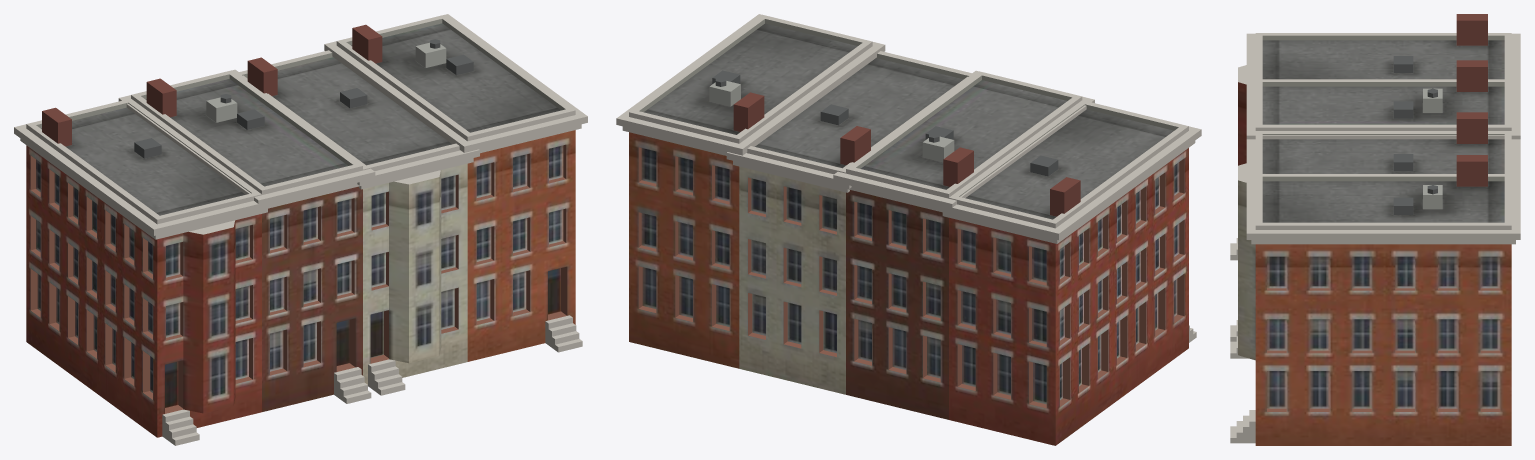
File: dc_brick_row_a.glb
3 views of the same model, side by side, from view 1: azimuth 30°, elevation 25°; view 2: azimuth 150°, elevation 25°; view 3: azimuth 270°, elevation 25° (orthographic). The views are drawn at different scales.
Visible parts, largest first — view 1: dc_brick_row_a; view 2: dc_brick_row_a; view 3: dc_brick_row_a.
Boxes of the visible parts, x1,y1,x2,y2 form: dc_brick_row_a: (14,14,587,445); dc_brick_row_a: (616,14,1201,445); dc_brick_row_a: (1230,14,1520,445).
Bounding box in the file's own units: 24.9 × 13.5 × 14.73.
Materials: 1 (1 with a texture image).
